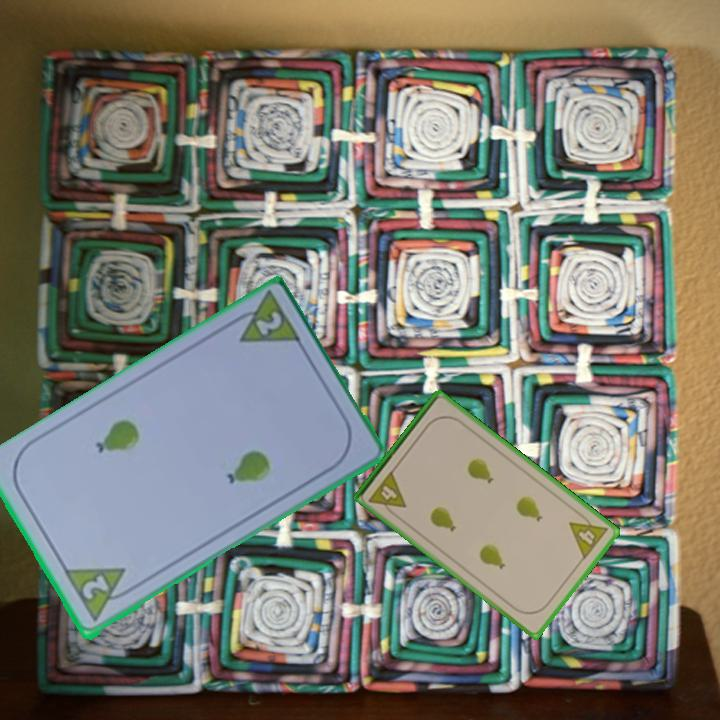2p: (224, 289, 305, 348), (61, 564, 138, 626)
4p: (566, 508, 611, 562), (365, 467, 409, 520)
